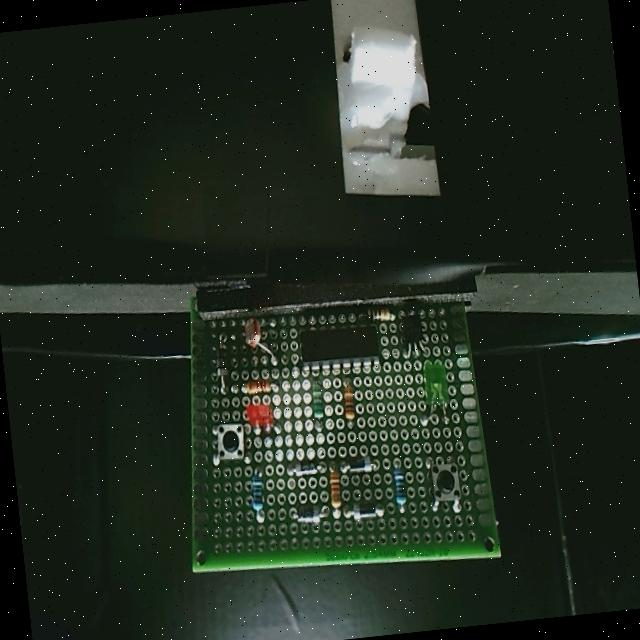IC: (295, 318, 384, 378)
cds: (239, 311, 281, 369)
diode: (210, 328, 233, 396), (284, 496, 334, 527), (342, 493, 388, 522), (338, 451, 383, 477), (284, 455, 327, 479)
led: (412, 356, 453, 426), (240, 396, 286, 436)
resistor: (246, 462, 272, 526), (386, 454, 411, 516), (306, 371, 328, 432), (324, 457, 344, 520), (354, 300, 398, 328), (237, 371, 282, 398), (340, 372, 360, 430)
switch: (419, 449, 465, 515), (207, 418, 253, 469)
transistor: (394, 308, 434, 362)
